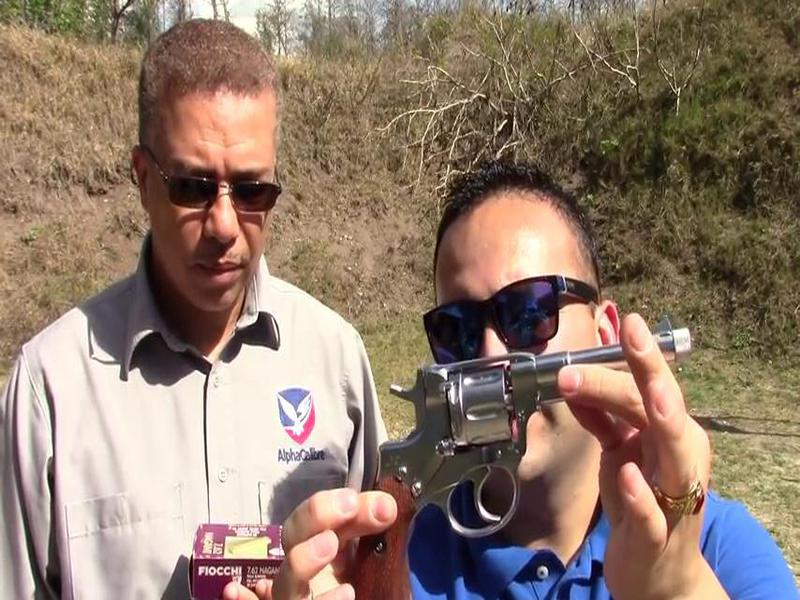Revolver: (346, 329, 689, 600)
